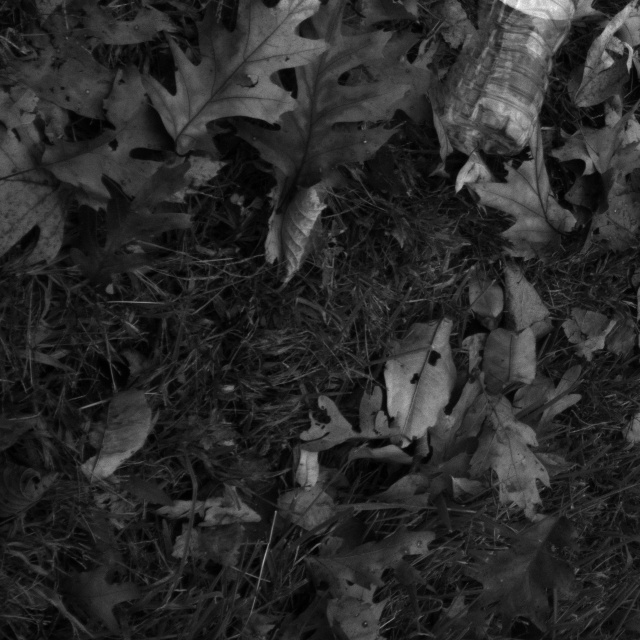bottle: (453, 0, 602, 155)
